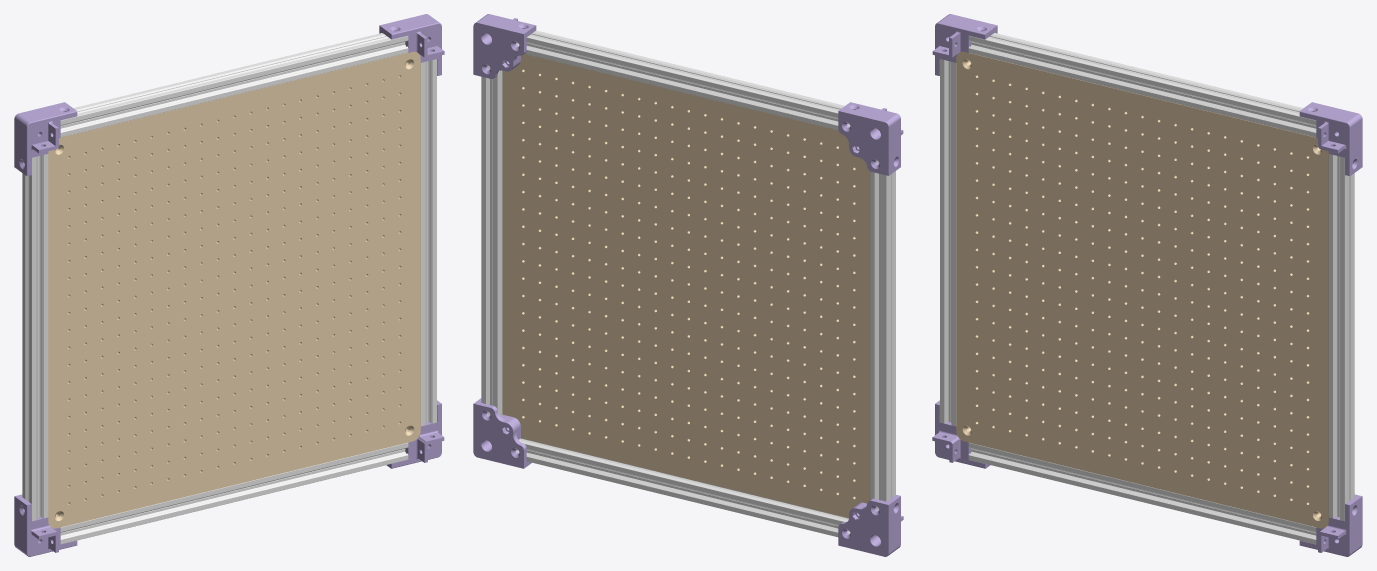
File: Plateau.gltf
3 renders of one model, left to right at view 1: azimuth 30°, elevation 25°; view 2: azimuth 150°, elevation 25°; view 3: azimuth 330°, elevation 25°, orthographic.
Parts seen in each view (by area): view 1: Plateau, V-Slot Linear Rail 20x20mm (×4), corner (×4); view 2: Plateau, V-Slot Linear Rail 20x20mm (×4), corner (×4); view 3: Plateau, V-Slot Linear Rail 20x20mm (×4), corner (×4).
Boxes of the visible parts, x1=… form: Plateau: x1=48, y1=51, x2=420, y2=528; V-Slot Linear Rail 20x20mm (×4): x1=22, y1=33, x2=436, y2=544; corner (×4): x1=14, y1=14, x2=444, y2=556; Plateau: x1=502, y1=54, x2=870, y2=517; V-Slot Linear Rail 20x20mm (×4): x1=481, y1=30, x2=895, y2=537; corner (×4): x1=473, y1=14, x2=903, y2=556; Plateau: x1=956, y1=51, x2=1328, y2=528; V-Slot Linear Rail 20x20mm (×4): x1=940, y1=33, x2=1354, y2=544; corner (×4): x1=932, y1=14, x2=1362, y2=556.
Size of the model in its own units: 0.502 by 0.502 by 0.041.
